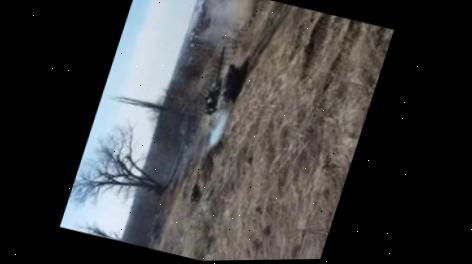tank: (194, 42, 253, 132)
